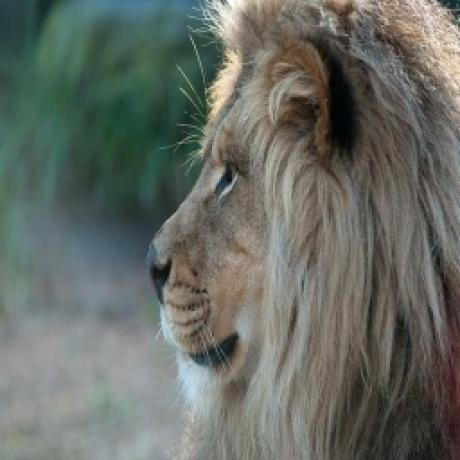Lion: (147, 0, 460, 453)
